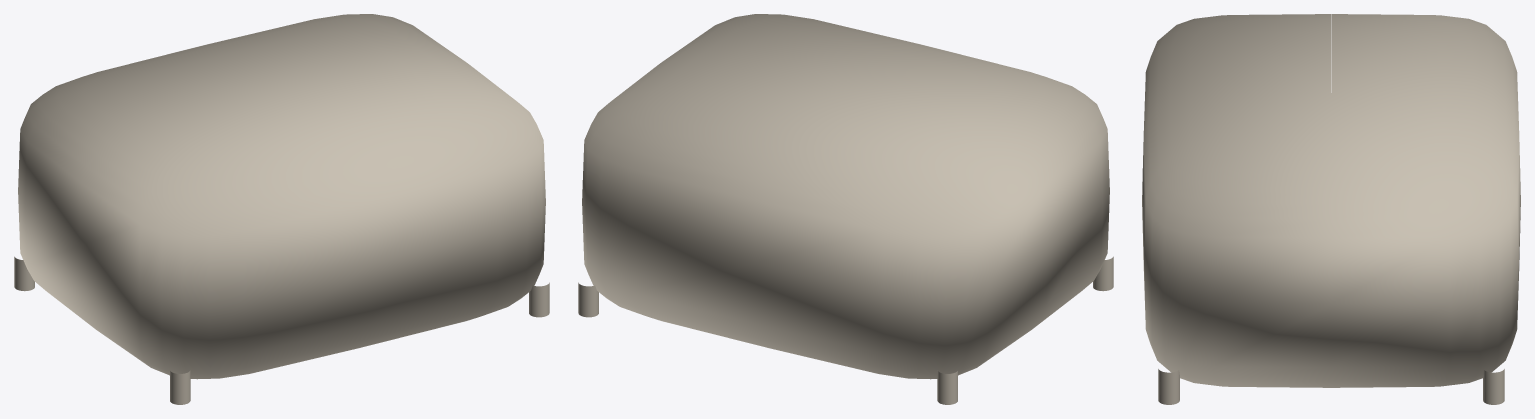
File: ikea-kivik-19440595-g2-proxy.glb
The picture shows the model from 3 angles, left to right: view 1: azimuth 30°, elevation 25°; view 2: azimuth 150°, elevation 25°; view 3: azimuth 270°, elevation 25°; orthographic projection. The views are drawn at different scales.
Visible parts, largest first — view 1: proxy_body, leg (×3); view 2: proxy_body, leg (×3); view 3: proxy_body, leg (×2).
Boxes of the visible parts, box(x1,y1,x2,y2) form: proxy_body: box(18, 14, 545, 379); leg (×3): box(14, 256, 549, 404); proxy_body: box(582, 14, 1109, 379); leg (×3): box(578, 256, 1113, 404); proxy_body: box(1142, 14, 1520, 387); leg (×2): box(1158, 369, 1504, 404).
Size of the model in its own units: 0.9 by 0.44 by 0.7.
